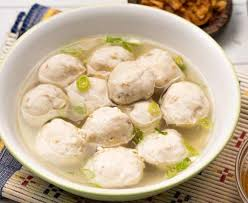Bakso sedang: (35, 118, 91, 166), (158, 81, 209, 127), (87, 147, 140, 187), (82, 105, 134, 145), (18, 84, 70, 124), (139, 128, 187, 169), (110, 61, 154, 105), (137, 48, 185, 85), (66, 76, 109, 117), (36, 53, 87, 86), (89, 45, 134, 76), (126, 98, 163, 128)
